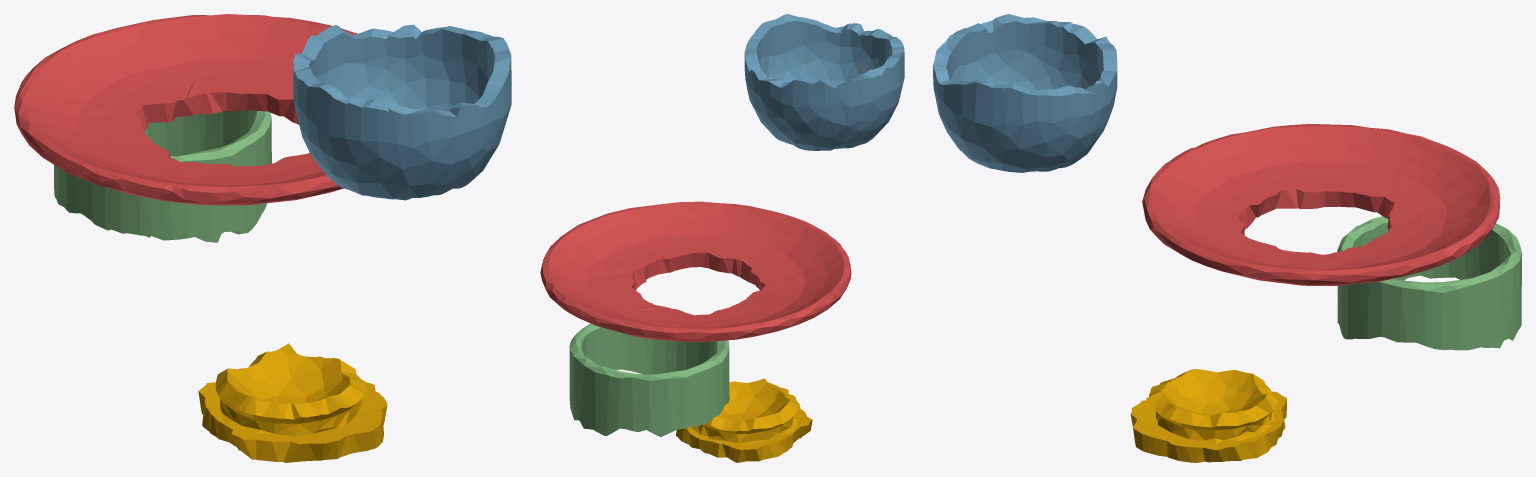
The model's file is fractured_5_4pcs_transformed.glb.
3 views of the same model, side by side, from view 1: azimuth 30°, elevation 25°; view 2: azimuth 150°, elevation 25°; view 3: azimuth 270°, elevation 25° (orthographic). The views are drawn at different scales.
Visible parts, largest first — view 1: piece_1.obj, piece_2.obj, piece_0.obj, piece_3.obj; view 2: piece_1.obj, piece_2.obj, piece_3.obj, piece_0.obj; view 3: piece_1.obj, piece_2.obj, piece_3.obj, piece_0.obj.
Part boxes in pixels (x1,y1,x2,y2): piece_1.obj: (14, 14, 357, 205); piece_2.obj: (293, 24, 511, 200); piece_0.obj: (198, 343, 387, 462); piece_3.obj: (54, 110, 271, 242); piece_1.obj: (540, 201, 851, 341); piece_2.obj: (744, 14, 904, 150); piece_3.obj: (569, 323, 729, 436); piece_0.obj: (676, 378, 812, 462); piece_1.obj: (1142, 124, 1500, 285); piece_2.obj: (933, 14, 1117, 172); piece_3.obj: (1337, 216, 1521, 350); piece_0.obj: (1130, 369, 1286, 462).
Size of the model in its own units: 1 by 1.17 by 1.64.
